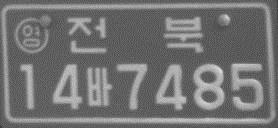1: (14, 61, 45, 110)
4: (154, 63, 186, 110), (51, 63, 82, 109)
5: (229, 62, 264, 111)
7: (116, 62, 148, 110)
8: (192, 63, 225, 110)
바: (85, 65, 112, 108)
영: (12, 17, 49, 54)
전북_D: (66, 15, 203, 55)
